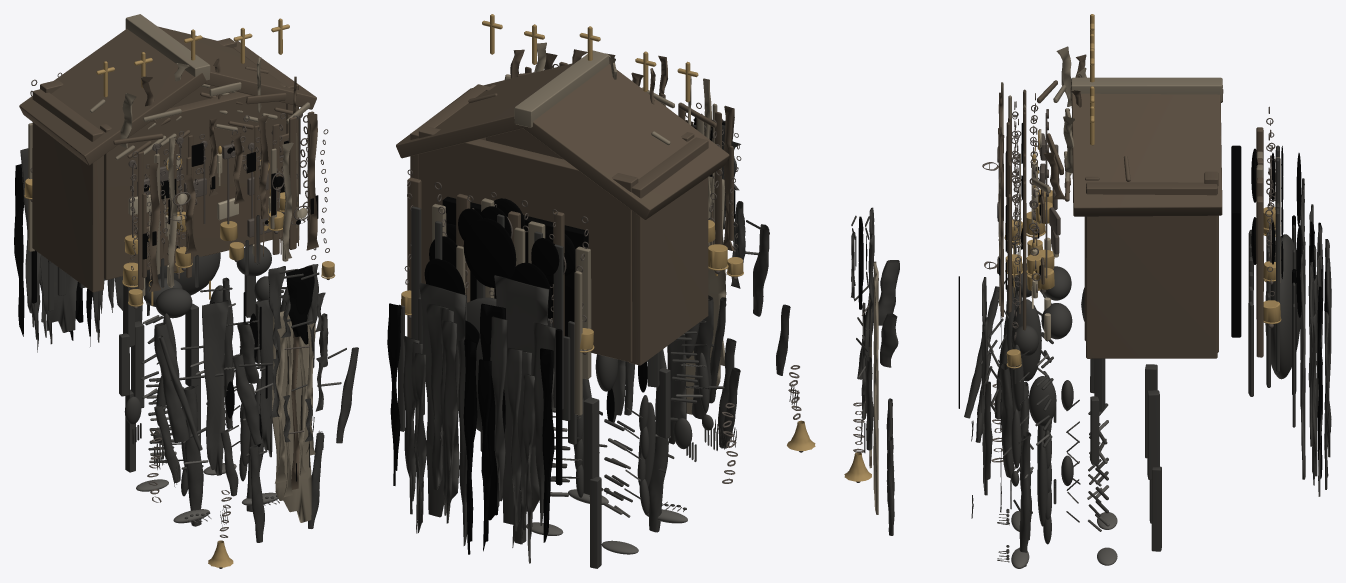
The model's file is penance_carrier_end_goal_v17_proportion_restore.glb.
The picture shows the model from 3 angles, left to right: view 1: azimuth 30°, elevation 25°; view 2: azimuth 150°, elevation 25°; view 3: azimuth 270°, elevation 25°; orthographic projection. The views are drawn at different scales.
Visible parts, largest first — view 1: PC_V4_shrine_front_rotten_wall, PC_V4_shrine_left_side_wall, PC_V4_roof_left_steep_slab, PC_V15_rotten_wood_door_mask_broad_read, PC_V11_left_torn_front_cloak_sheet, PC_V4_roof_right_steep_slab, PC_V11_right_torn_front_cloak_sheet, PC_V4_roof_ridge_heavy_rot, PC_V11_5_left_arm_pinched_wrapped_sculpt, PC_V11_back_rotten_skin_sheet_left, PC_V11_5_left_leg_compressed_wrapped_sculpt, PC_V11_6_back_thin_torn_rag_layer_00 (+45 smaller); view 2: PC_V4_shrine_rear_rotten_wall, PC_V4_roof_left_steep_slab, PC_V4_shrine_left_side_wall, PC_V4_roof_right_steep_slab, PC_V11_back_rotten_skin_sheet_left, PC_V11_back_rotten_skin_sheet_right, PC_V11_back_deep_rotted_hole_01, PC_V4_roof_ridge_heavy_rot, PC_V11_6_back_thin_torn_rag_layer_02, PC_V4_back_black_rotten_hollow, PC_V11_7_back_rotten_interior_tongue_02, PC_V11_5_back_layered_rotten_sheet_04 (+50 smaller); view 3: PC_V4_shrine_right_side_wall, PC_V4_roof_right_steep_slab, PC_V4_roof_ridge_heavy_rot, PC_V11_back_swollen_rotten_under_mass, PC_V4_back_black_rotten_hollow, PC_V15_rotten_wood_door_mask_broad_read, PC_V5_back_rotten_vertical_plank_07, PC_V11_5_right_leg_compressed_wrapped_sculpt, PC_V11_back_rotten_skin_sheet_right, PC_V11_5_right_arm_pinched_wrapped_sculpt, PC_V6_right_wrapped_thigh, PC_V11_sunken_chest_under_mask (+19 smaller).
Part boxes in pixels (x1,y1,x2,y2): PC_V4_shrine_front_rotten_wall: (100, 81, 286, 279); PC_V4_shrine_left_side_wall: (32, 89, 103, 292); PC_V4_roof_left_steep_slab: (19, 29, 206, 165); PC_V15_rotten_wood_door_mask_broad_read: (272, 310, 315, 522); PC_V11_left_torn_front_cloak_sheet: (202, 300, 228, 475); PC_V4_roof_right_steep_slab: (158, 26, 316, 109); PC_V11_right_torn_front_cloak_sheet: (257, 299, 273, 457); PC_V4_roof_ridge_heavy_rot: (125, 14, 210, 80); PC_V11_5_left_arm_pinched_wrapped_sculpt: (154, 322, 189, 442); PC_V11_back_rotten_skin_sheet_left: (40, 254, 77, 332); PC_V11_5_left_leg_compressed_wrapped_sculpt: (183, 386, 203, 526); PC_V11_6_back_thin_torn_rag_layer_00: (14, 164, 24, 336); PC_V4_shrine_rear_rotten_wall: (418, 126, 638, 362); PC_V4_roof_left_steep_slab: (523, 64, 729, 219); PC_V4_shrine_left_side_wall: (629, 137, 708, 365); PC_V4_roof_right_steep_slab: (396, 63, 572, 158); PC_V11_back_rotten_skin_sheet_left: (494, 275, 549, 524); PC_V11_back_rotten_skin_sheet_right: (419, 282, 466, 517); PC_V11_back_deep_rotted_hole_01: (463, 218, 516, 287); PC_V4_roof_ridge_heavy_rot: (514, 50, 609, 127); PC_V11_6_back_thin_torn_rag_layer_02: (490, 316, 507, 506); PC_V4_back_black_rotten_hollow: (442, 196, 588, 336); PC_V11_7_back_rotten_interior_tongue_02: (441, 320, 457, 523); PC_V11_5_back_layered_rotten_sheet_04: (426, 303, 448, 489); PC_V4_shrine_right_side_wall: (1086, 182, 1217, 358); PC_V4_roof_right_steep_slab: (1071, 93, 1222, 216); PC_V4_roof_ridge_heavy_rot: (1071, 77, 1222, 101); PC_V11_back_swollen_rotten_under_mass: (1265, 234, 1300, 379); PC_V4_back_black_rotten_hollow: (1231, 145, 1241, 337); PC_V15_rotten_wood_door_mask_broad_read: (873, 261, 878, 514); PC_V5_back_rotten_vertical_plank_07: (1256, 196, 1263, 357); PC_V11_5_right_leg_compressed_wrapped_sculpt: (1019, 431, 1030, 566); PC_V11_back_rotten_skin_sheet_right: (1300, 241, 1305, 479); PC_V11_5_right_arm_pinched_wrapped_sculpt: (1000, 363, 1013, 478); PC_V6_right_wrapped_thigh: (1147, 390, 1159, 479); PC_V11_sunken_chest_under_mask: (1011, 299, 1041, 381).
Bounding box in the file's own units: 2.34 × 4.48 × 3.92.
